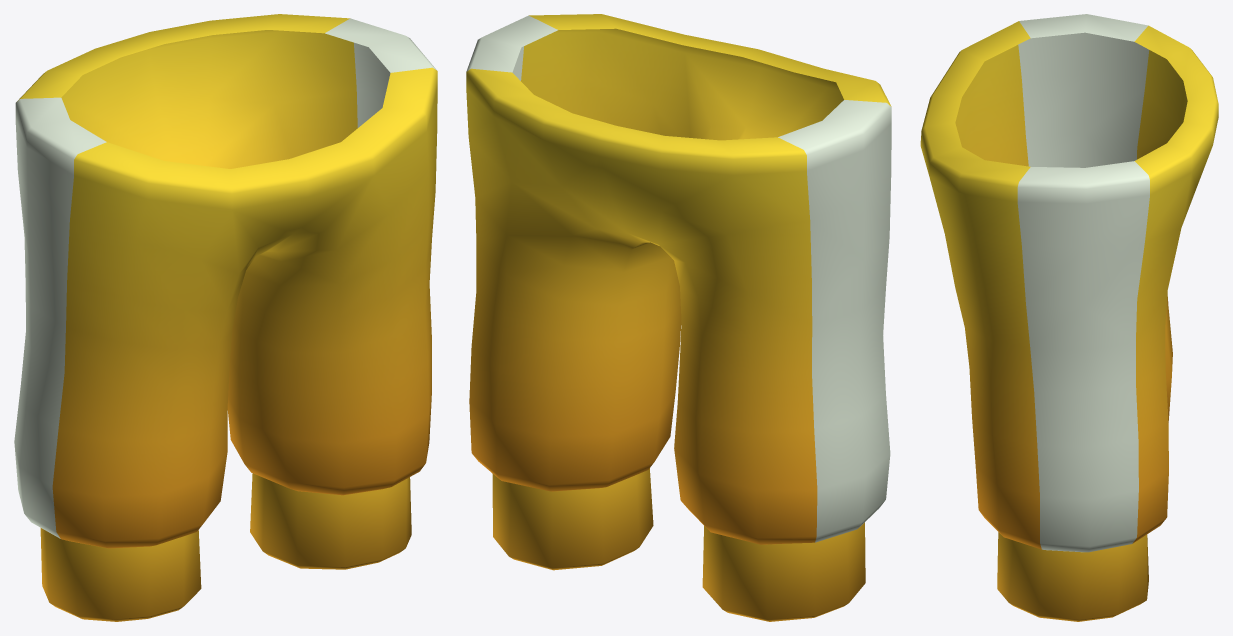
Rendered from Pants_02.glb.
3 views of the same model, side by side, from view 1: azimuth 30°, elevation 25°; view 2: azimuth 150°, elevation 25°; view 3: azimuth 270°, elevation 25° (orthographic). The views are drawn at different scales.
Parts seen in each view (by area): view 1: Pants_02; view 2: Pants_02; view 3: Pants_02.
Boxes of the visible parts, left/top/right/bottom form: Pants_02: left=14, top=14, right=437, bottom=621; Pants_02: left=466, top=14, right=891, bottom=621; Pants_02: left=920, top=14, right=1218, bottom=621.
Bounding box in the file's own units: 0.2497 × 0.2964 × 0.1787.
1 material, 1 textured.
